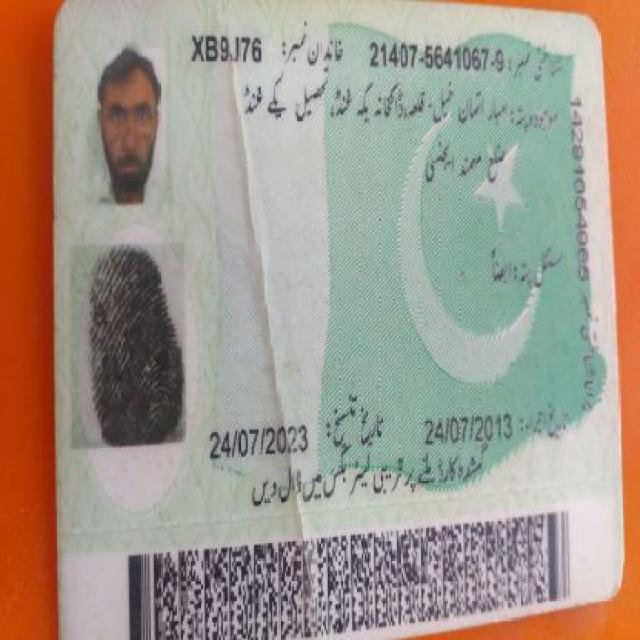Back: (49, 12, 623, 612)
